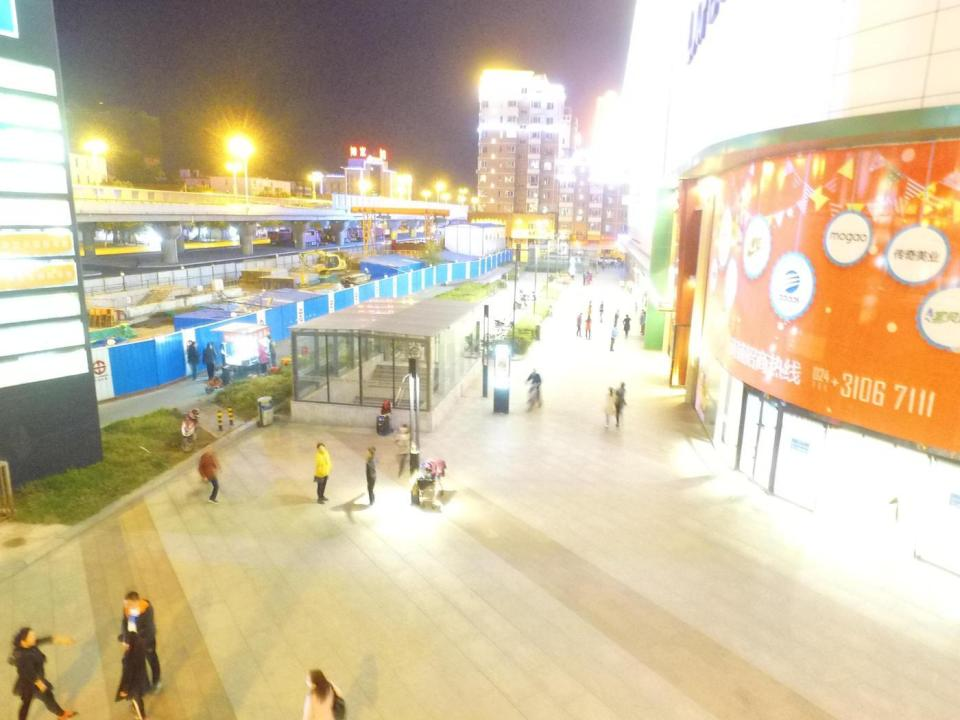car: (598, 256, 618, 266)
truck: (342, 228, 385, 241), (268, 229, 296, 246), (298, 229, 322, 246)
